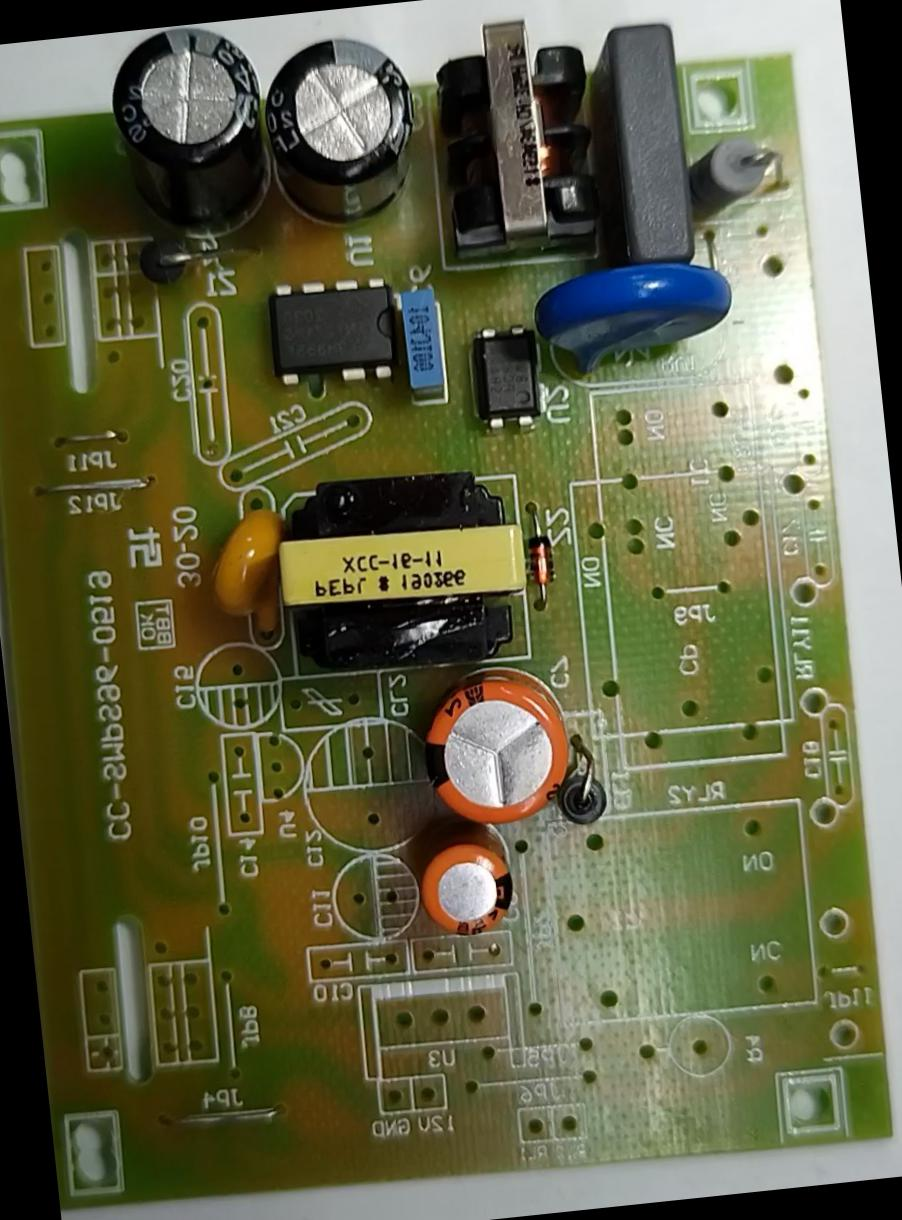Cap1: (391, 662, 598, 840)
Cap2: (393, 801, 530, 954)
Cap3: (242, 13, 447, 246)
Cap4: (85, 16, 307, 280)
MOSFET: (246, 264, 426, 402)
Mov: (521, 238, 753, 395)
Resistor: (676, 118, 797, 242)
Transformer: (248, 460, 556, 698), (420, 0, 635, 279)
